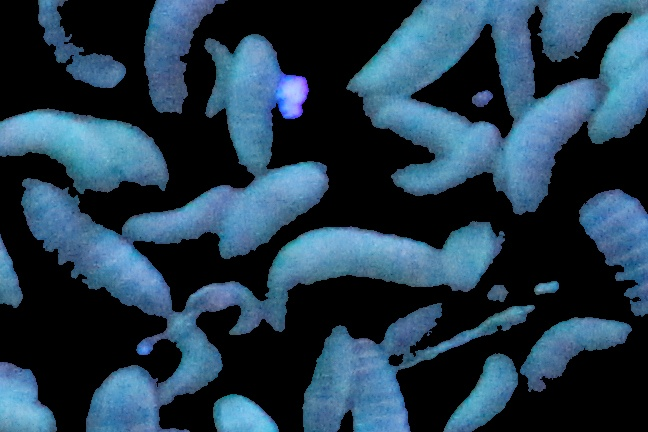larvae: (25, 182, 169, 316), (347, 1, 493, 98), (497, 81, 605, 208), (266, 231, 444, 302), (219, 166, 326, 263), (1, 110, 118, 191), (37, 1, 133, 97), (579, 185, 648, 313), (524, 316, 633, 396), (143, 1, 201, 130), (346, 333, 413, 432), (231, 31, 279, 169), (127, 184, 237, 244), (543, 1, 648, 56), (450, 353, 518, 432), (107, 113, 174, 190), (368, 97, 468, 146), (298, 326, 344, 432), (441, 216, 504, 292), (493, 1, 537, 108), (392, 158, 484, 204), (201, 36, 230, 124)
